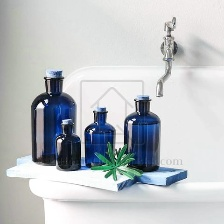bottle: (28, 66, 77, 167), (120, 91, 162, 175), (81, 103, 118, 173), (54, 116, 83, 172)
